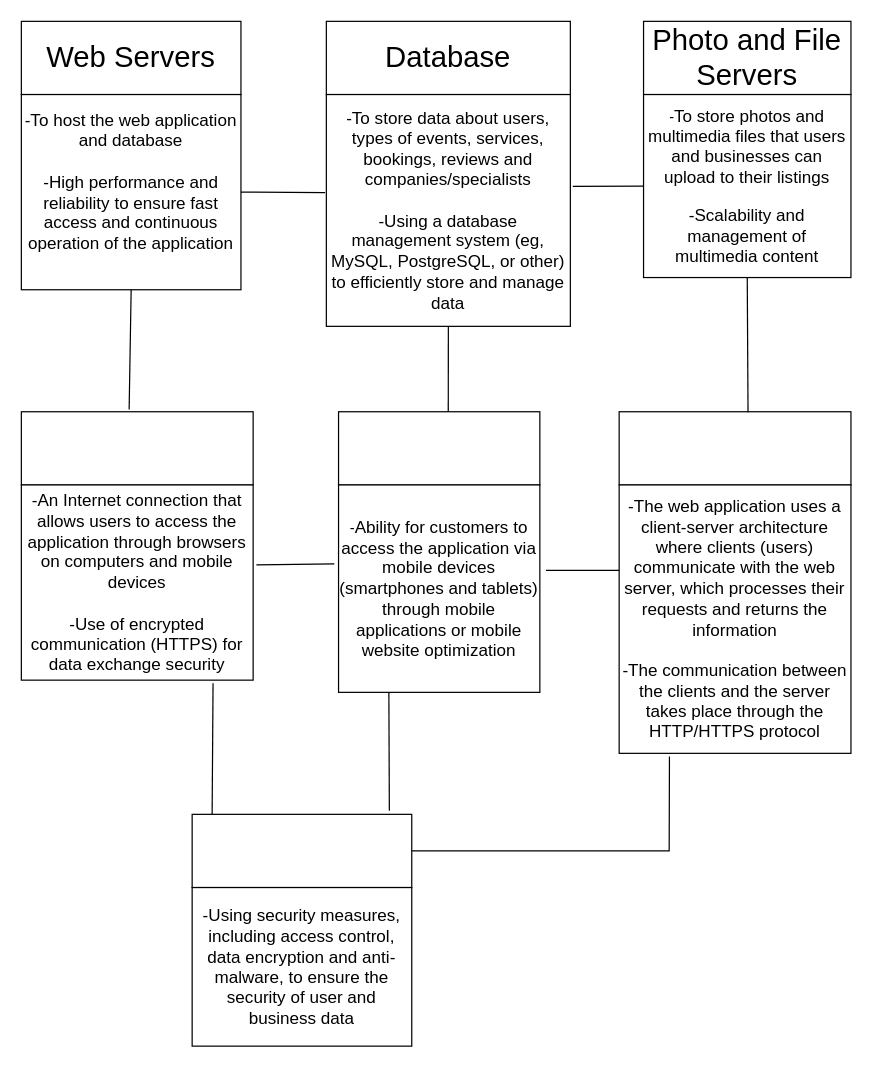
This 872x1068 diagram has some shape labels left out. The centre of each missing label's shape, as x and y in pixels:
"Architecture for Communication" belongs at [734,448].
"Communication" belongs at [136,448].
"Mobile Devices" belongs at [438,448].
"Security" belongs at [301,850].
